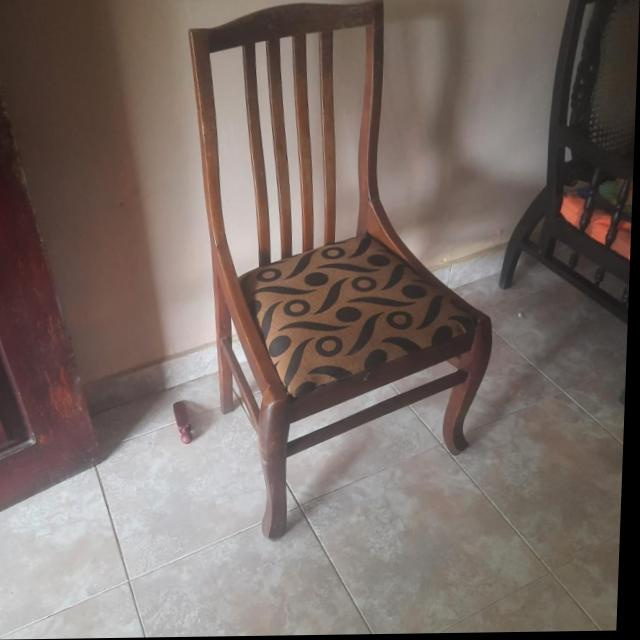Chair: (172, 0, 506, 544)
